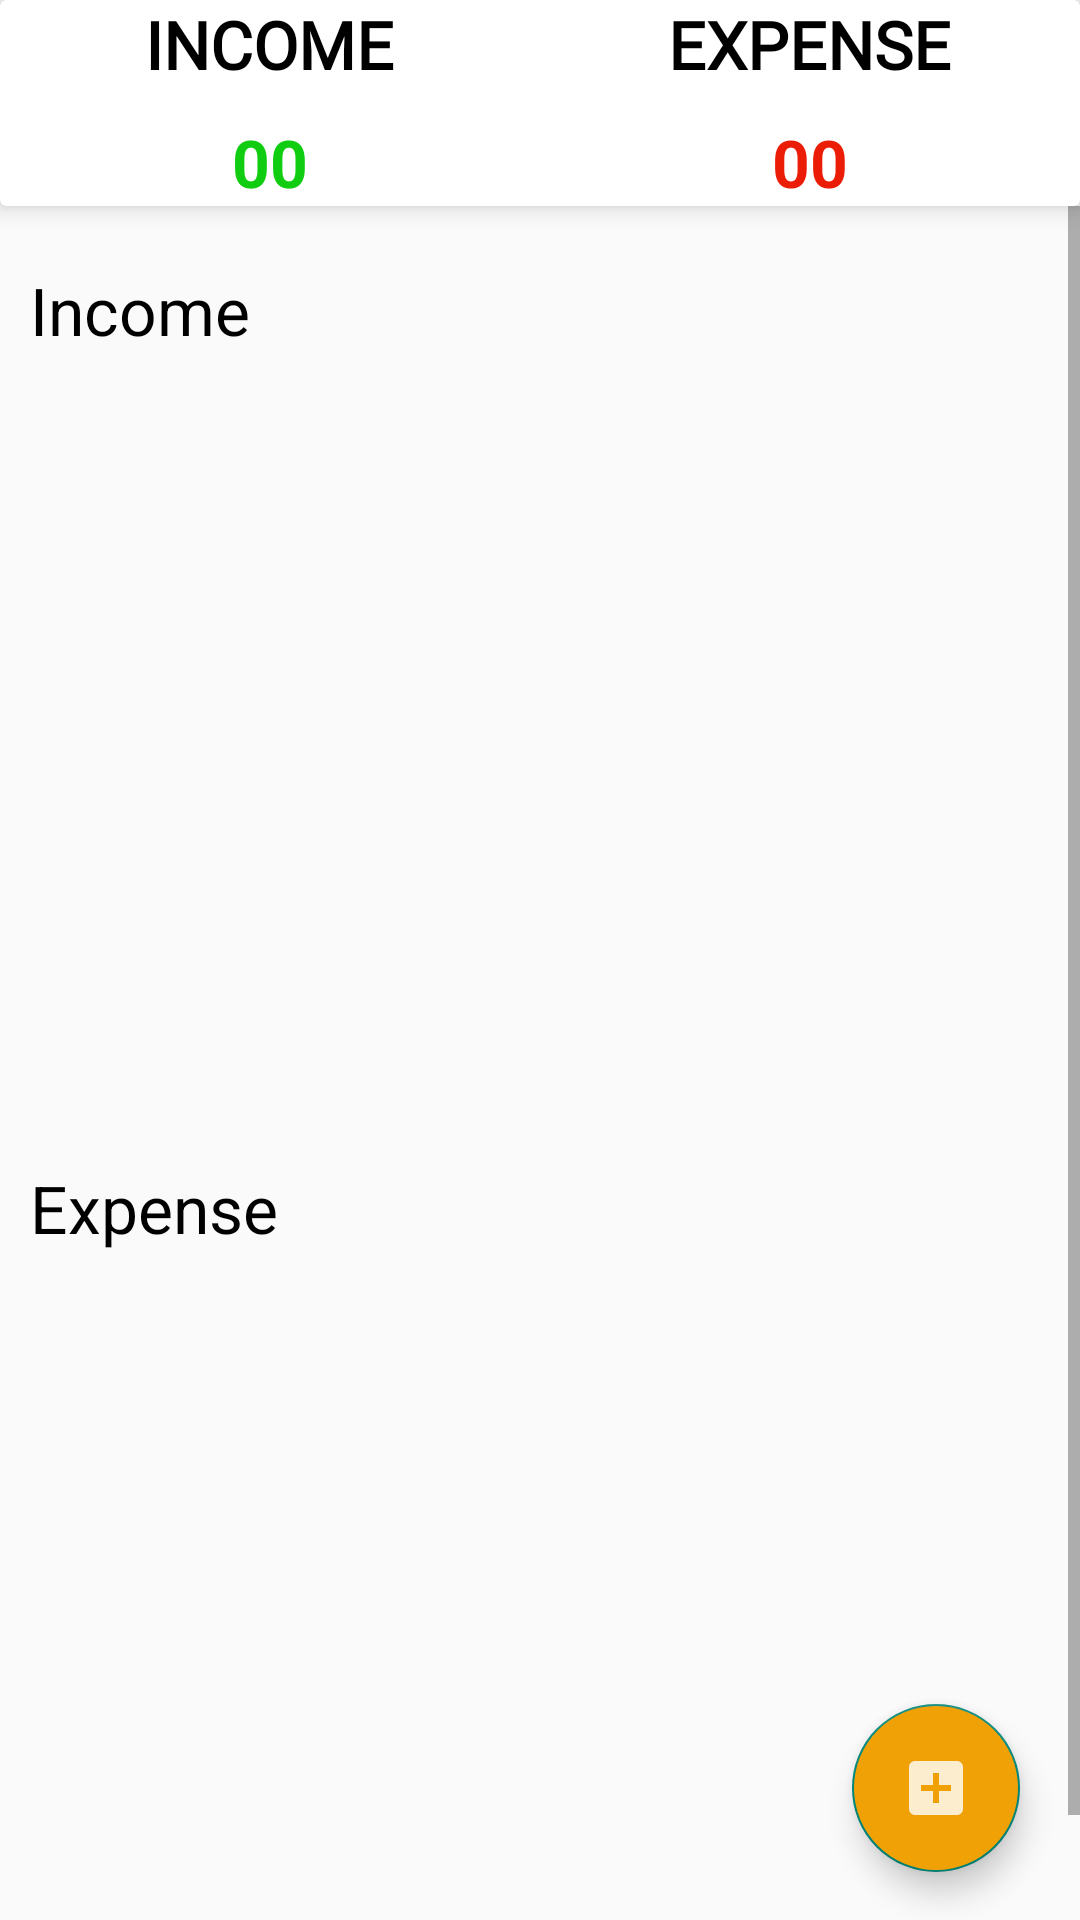

Screen size 1080 x 1920. Icon name, then its box in pixels as box(x1, y1, x2, y2):
add: box(852, 1704, 1020, 1872)
